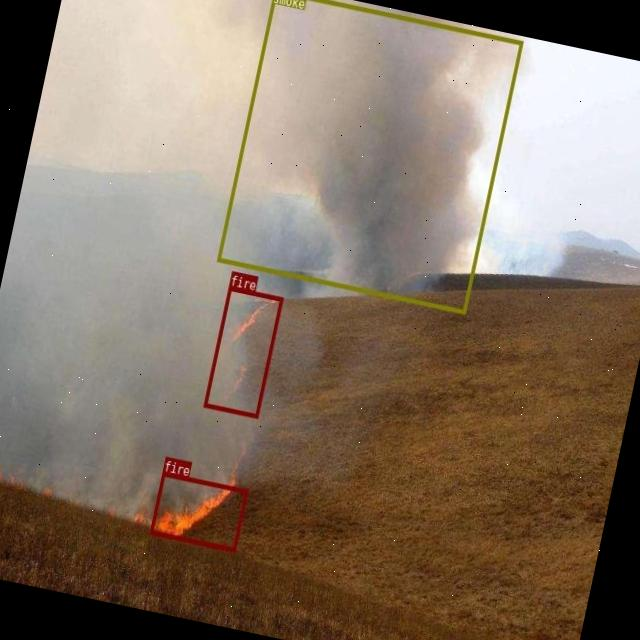fire: (203, 285, 282, 417), (149, 471, 247, 552)
smoke: (216, 0, 522, 313)
